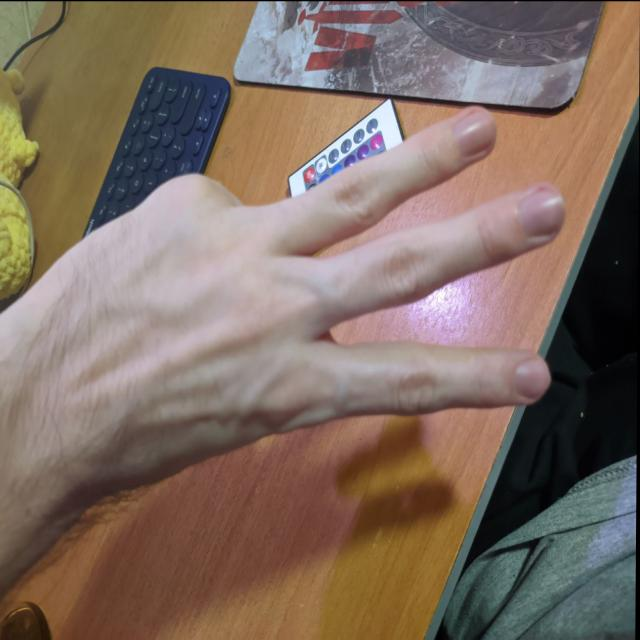m: (59, 75, 560, 529)
